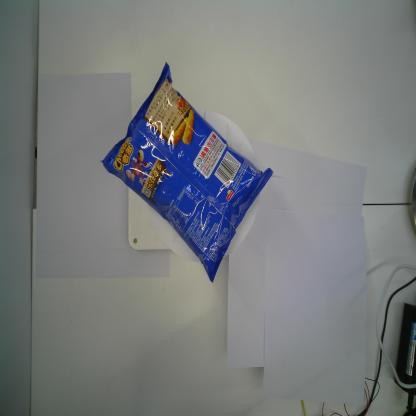Puffed Food: (100, 60, 274, 285)
